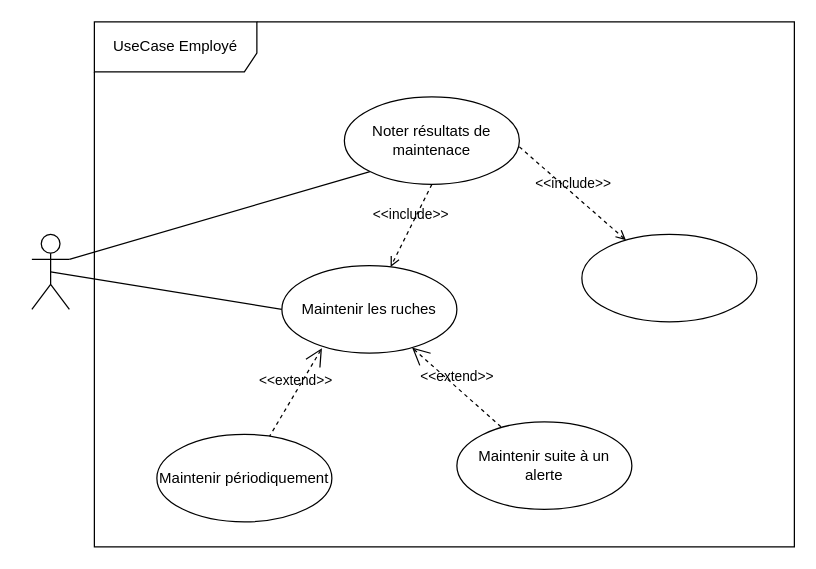
This 816x569 diagram has some shape labels left out. Here are the shapes that lost their labels. From the top down, the centre of each, then its label:
At point 50,271: "Employé".
At point 669,277: "S'authentifier".
